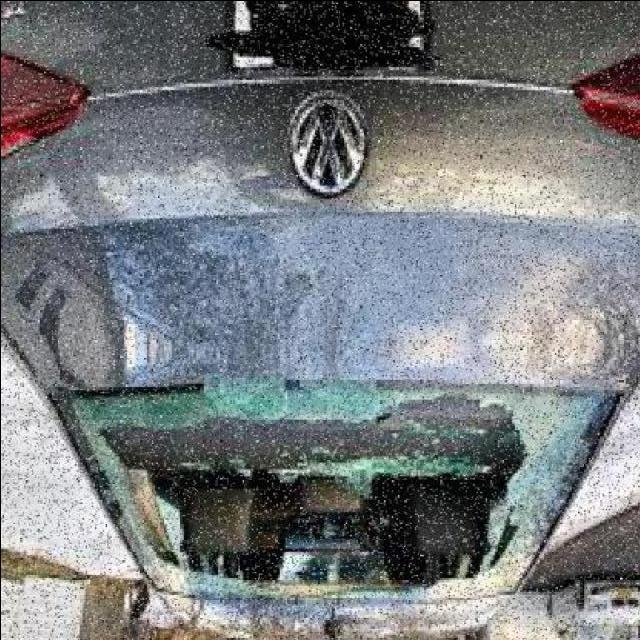Rear-windscreen-Damage: (37, 313, 640, 640)
